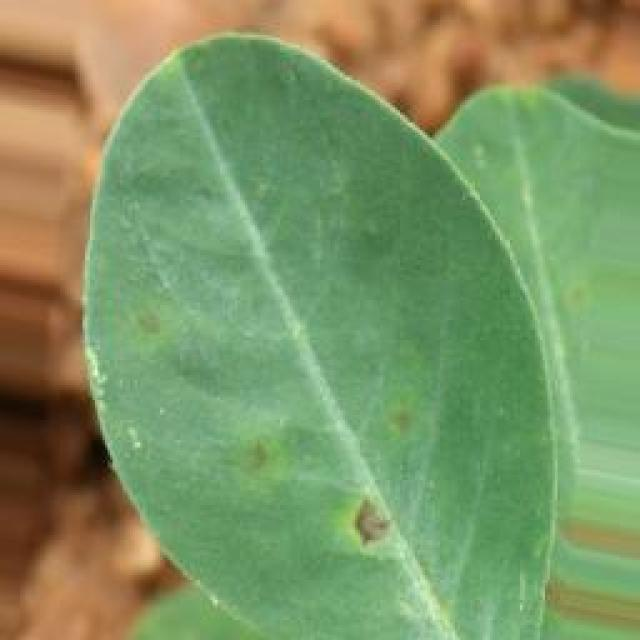Sigatoka: (332, 475, 433, 566)
